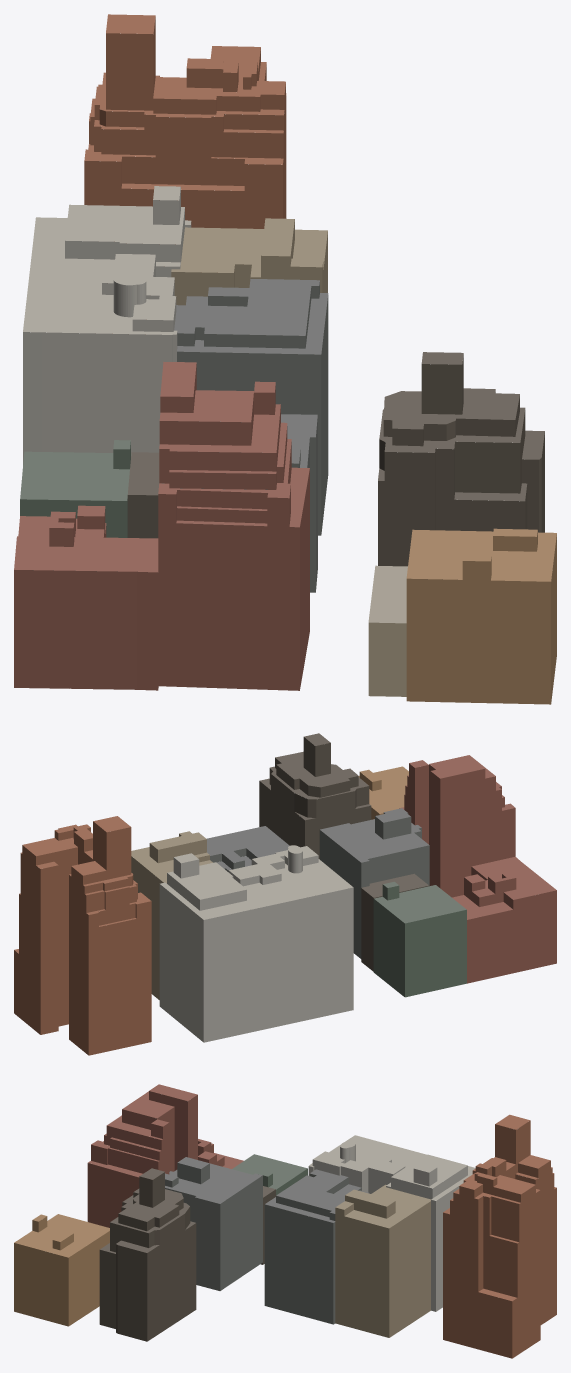
The model's file is tile-0_0.glb.
The picture shows the model from 3 angles, top to bottom: view 1: azimuth 30°, elevation 25°; view 2: azimuth 150°, elevation 25°; view 3: azimuth 270°, elevation 25°; orthographic projection. The views are drawn at different scales.
Visible parts, largest first — view 1: wall, roof; view 2: wall, roof; view 3: wall, roof.
Boxes of the visible parts, bbox=[...] form: wall: bbox=[14, 17, 556, 704]; roof: bbox=[14, 14, 556, 623]; wall: bbox=[14, 737, 556, 1055]; roof: bbox=[14, 733, 556, 953]; wall: bbox=[14, 1091, 556, 1358]; roof: bbox=[14, 1084, 556, 1301].
Bounding box in the file's own units: 143 × 82.75 × 208.
